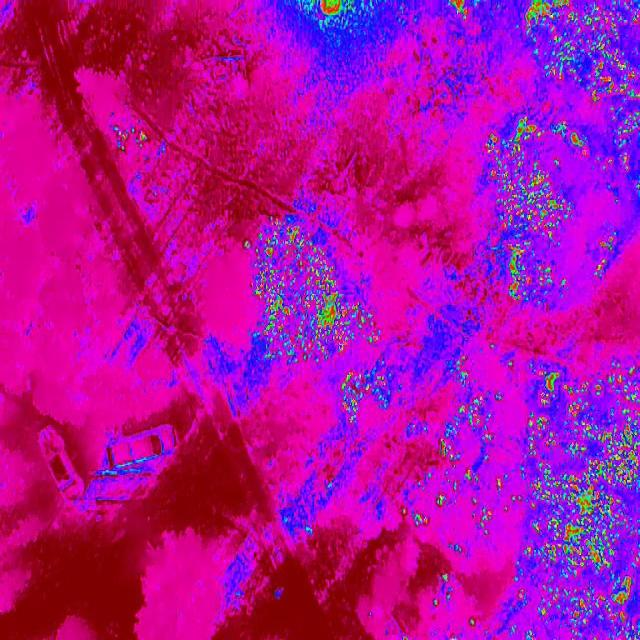fire: (510, 359, 640, 640), (236, 217, 386, 371), (477, 108, 586, 310), (522, 0, 640, 108), (279, 0, 412, 49), (452, 362, 500, 443), (341, 358, 393, 432), (435, 428, 477, 512), (609, 108, 640, 183), (595, 226, 622, 278), (436, 0, 486, 20), (408, 508, 431, 532)
